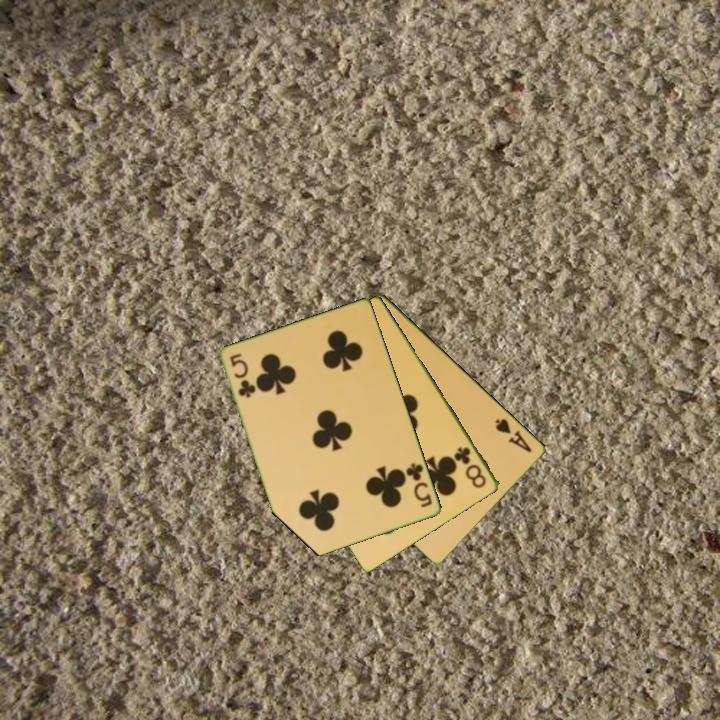5c: (403, 460, 436, 510), (227, 350, 258, 401)
8c: (451, 443, 490, 491)
As: (492, 415, 535, 456)
